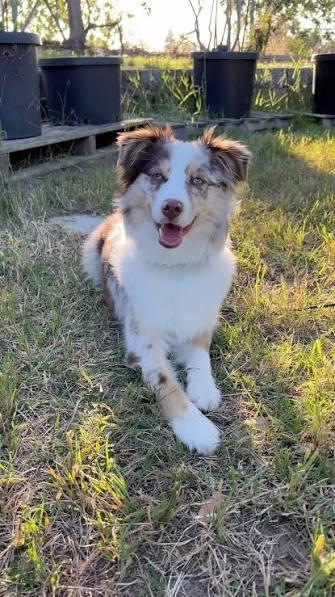adult_dog: (62, 124, 256, 456)
